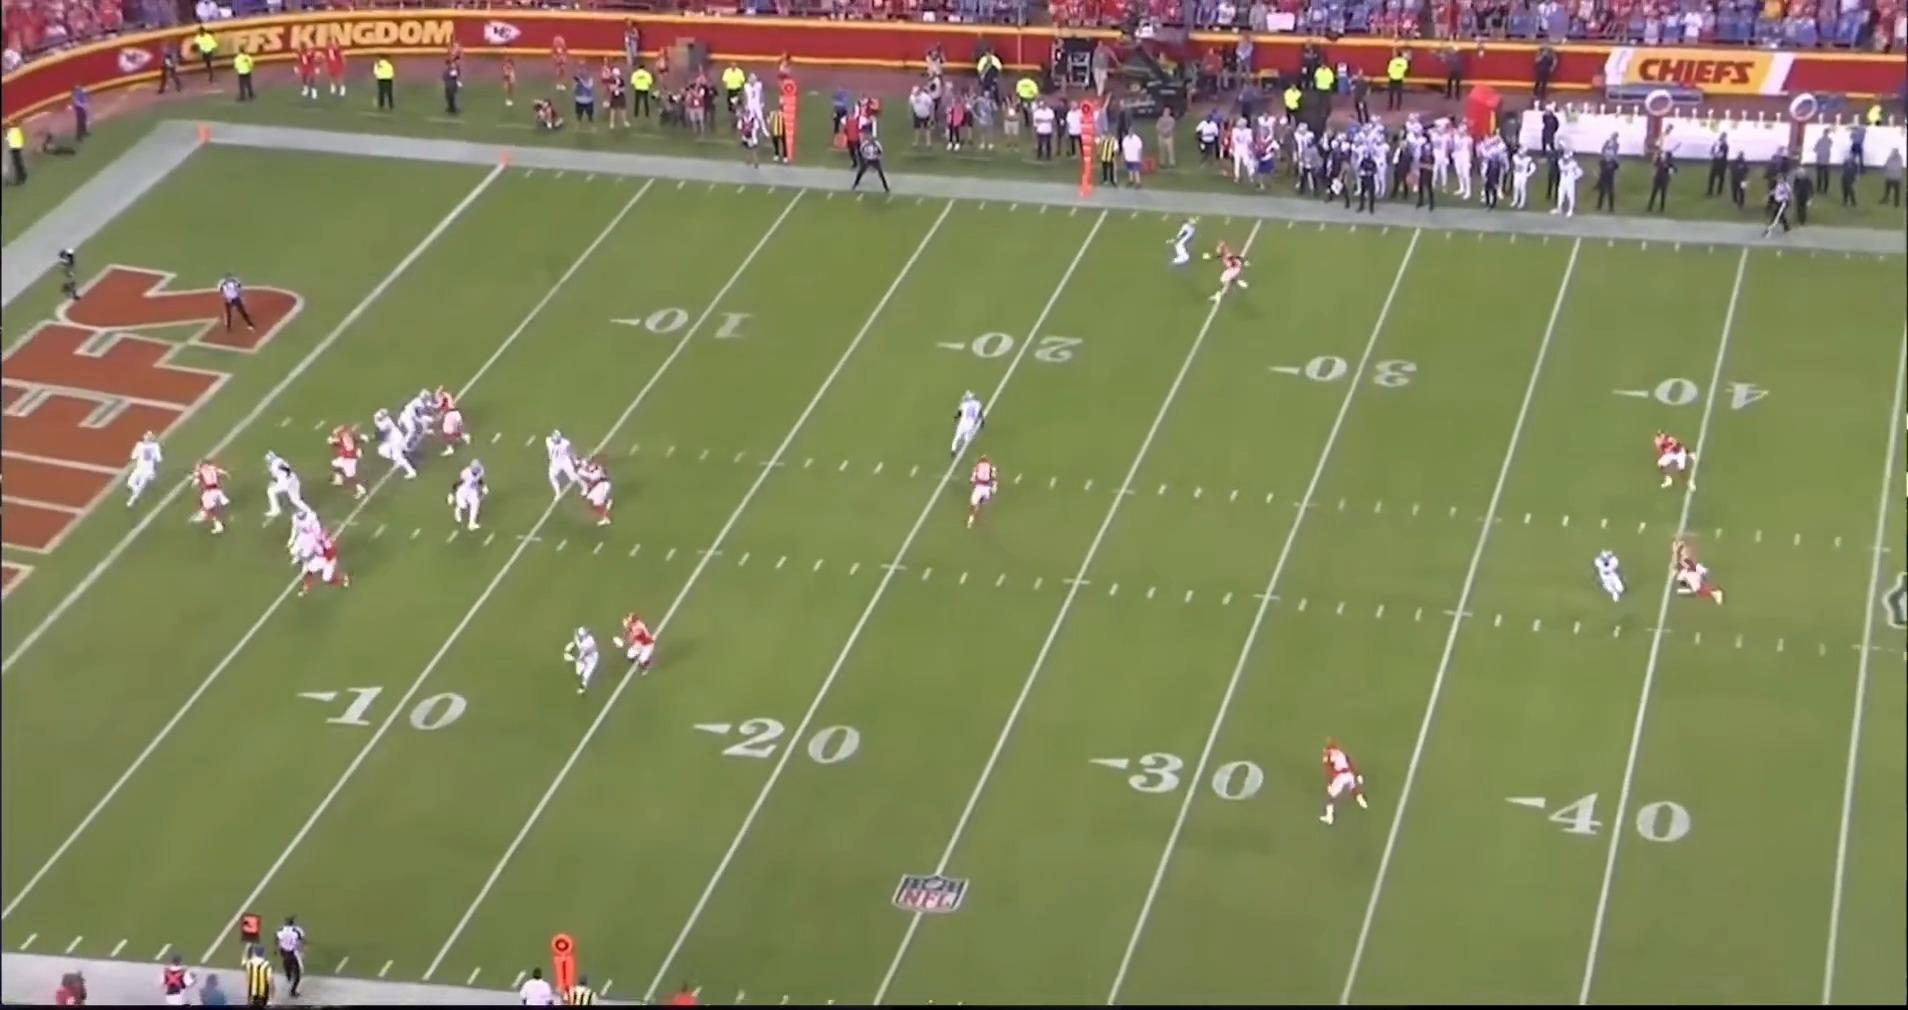defense: (1321, 742, 1377, 830), (190, 452, 236, 538), (1669, 546, 1729, 610), (328, 422, 372, 502), (618, 610, 666, 679), (1649, 429, 1698, 496), (303, 530, 350, 595), (579, 457, 619, 530), (964, 454, 1000, 531), (1211, 241, 1254, 304), (438, 390, 475, 455)
oline: (259, 449, 305, 525), (373, 406, 416, 479), (443, 462, 484, 538), (546, 426, 583, 502), (290, 507, 331, 575)
qb: (118, 428, 164, 512)
ref: (268, 912, 309, 997), (210, 264, 254, 332), (852, 131, 897, 196), (1761, 176, 1798, 245)
skill: (945, 388, 989, 461), (563, 624, 604, 695), (401, 386, 441, 453), (1163, 219, 1206, 278), (1591, 547, 1630, 606)
